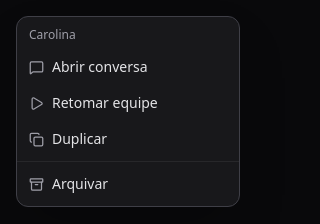
Test: menu de contexto do DOT › oferece retomar quando pausado e nomeia a equipe quando e gerente
Click the menu item "Retomar equipe" at (128,103), box [17,85,239,121]
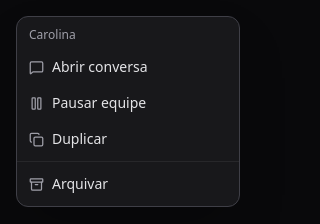
Now the menu shows "Pausar equipe", box [17,85,239,121]
